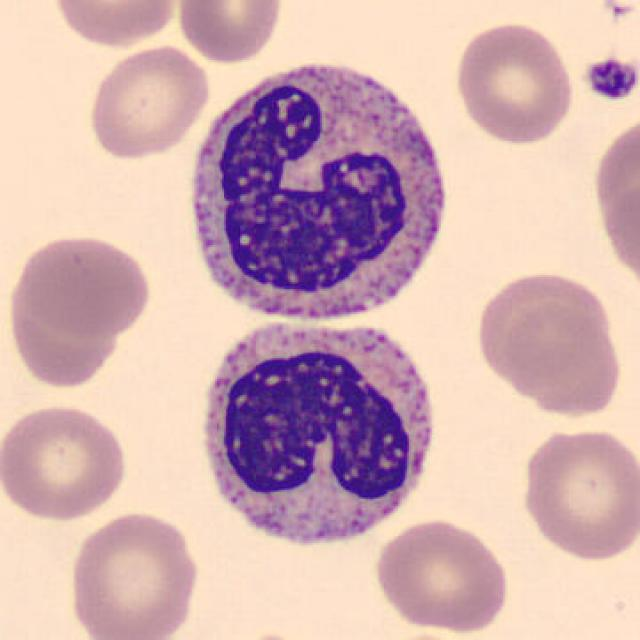Neutrophil: (174, 44, 460, 339), (188, 312, 446, 564)
Platelets: (582, 53, 638, 104)
RBC: (9, 229, 155, 389), (471, 265, 615, 393), (64, 508, 203, 640), (370, 515, 514, 635), (518, 423, 638, 564), (450, 18, 578, 146), (0, 400, 132, 524), (84, 42, 214, 160), (503, 304, 626, 422), (588, 105, 638, 292), (174, 0, 286, 65), (46, 0, 181, 49)
